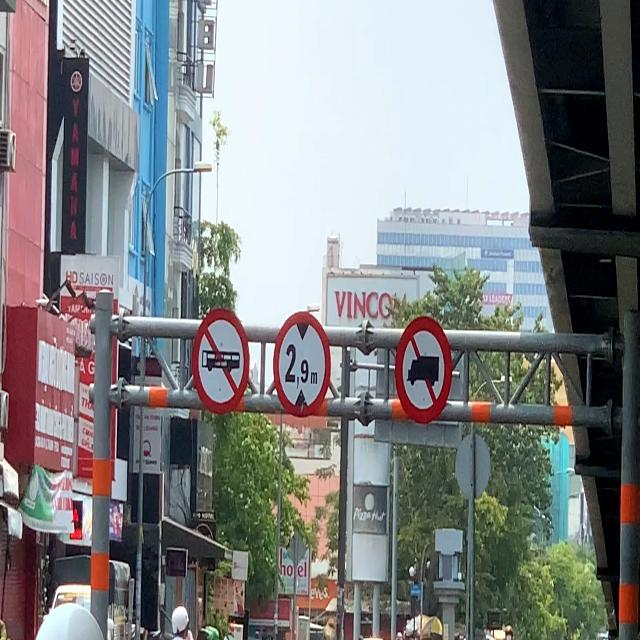P-117: (274, 309, 332, 418)
